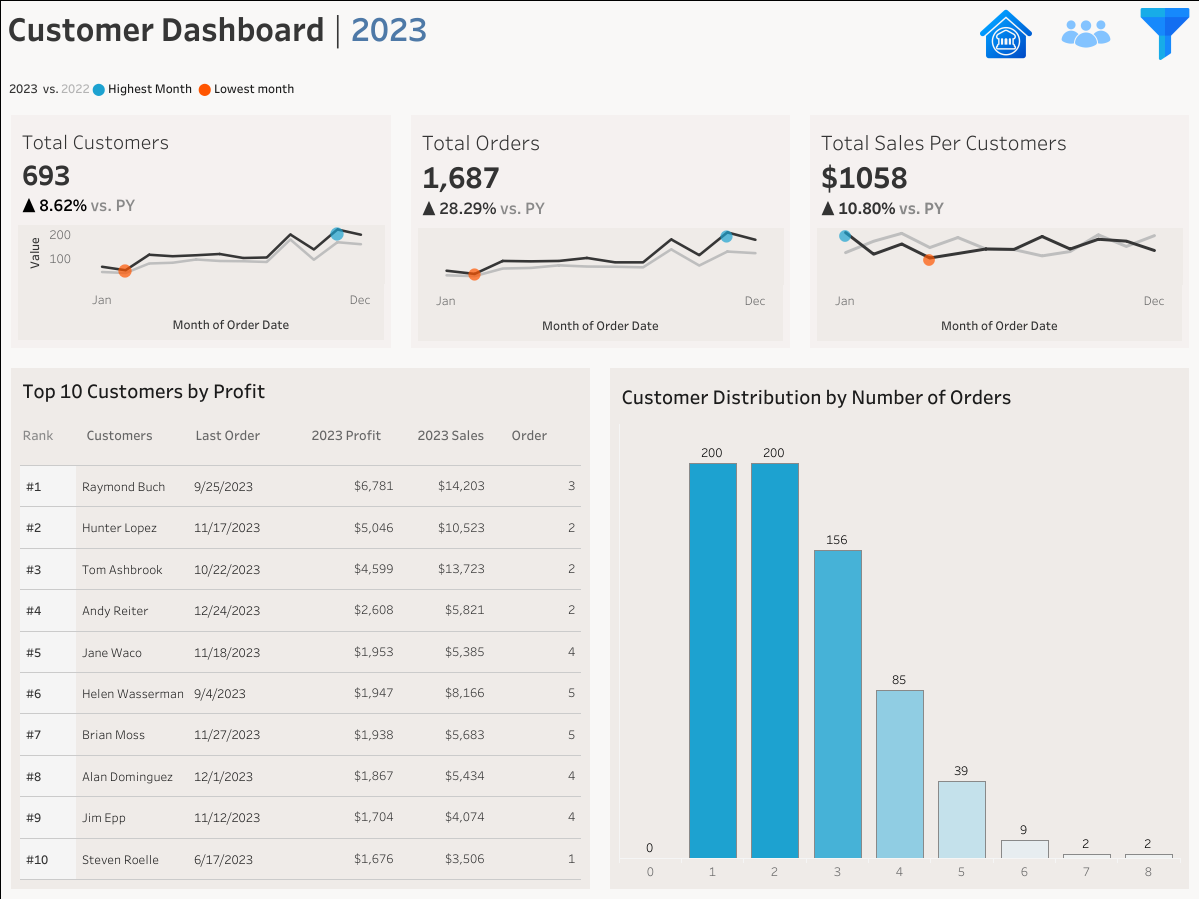

The page's visual inventory and layout, read from the dashboard file:
{"tool":"tableau","page":{"name":"Customer dashboard","canvas":[1200,900],"ordinal":0},"visuals":[{"type":"text","box":[1,1,1198,60]},{"type":"dashboard-object","box":[966,4,80,60]},{"type":"dashboard-object","box":[1046,4,80,60]},{"type":"dashboard-object","box":[1126,4,79,60]},{"type":"blank","box":[8,8,194,36]},{"type":"text","box":[8,44,194,41]},{"type":"worksheet","title":"Legend KPI","mark":"Automatic","box":[1,61,1198,54]},{"type":"parameter","param":"[Parameters].[Parameter 1]","box":[8,85,194,74]},{"type":"worksheet","title":"Cuetomer KPI","mark":"Line","rows":["Min/Max Quantity (copy)_3221481164588691468"],"cols":["Order Date"],"box":[1,115,400,243]},{"type":"worksheet","title":"Order KPI","mark":"Line","rows":["Min/Max Sales (copy)_3221481164601258003"],"cols":["Order Date"],"box":[401,115,399,243]},{"type":"worksheet","title":"Sales Per Customers KPI","mark":"Line","rows":["Min/Max Quantity (copy)_3221481164537155591"],"cols":["Order Date"],"box":[800,115,399,243]},{"type":"blank","box":[8,159,194,39]},{"type":"text","box":[8,198,194,36]},{"type":"filter","title":"Cuetomer KPI","param":"[federated.02ff8am041xuap1esdykf0pzir3w].[none:Category:nk]","box":[8,234,194,70]},{"type":"filter","title":"Cuetomer KPI","param":"[federated.02ff8am041xuap1esdykf0pzir3w].[none:Sub-Category:nk]","box":[8,304,194,70]},{"type":"text","box":[16,373,569,47]},{"type":"text","box":[615,373,569,47]},{"type":"blank","box":[8,374,194,38]},{"type":"text","box":[8,412,194,36]},{"type":"text","box":[16,420,64,53]},{"type":"text","box":[80,420,109,53]},{"type":"text","box":[189,420,116,53]},{"type":"text","box":[305,420,106,53]},{"type":"text","box":[411,420,94,53]},{"type":"text","box":[505,420,80,53]},{"type":"worksheet","title":"Customer Distribution","mark":"Automatic","rows":["Current Year Profit (copy)_1477180721066676224"],"cols":["Calculation_998110323739992064"],"box":[615,420,569,464]},{"type":"filter","title":"Cuetomer KPI","param":"[federated.02ff8am041xuap1esdykf0pzir3w].[none:Region:nk]","box":[8,448,194,70]},{"type":"worksheet","title":"Top Customers","mark":"Automatic","rows":["Calculation_1477180721778905108","Customer Name","Order Date"],"box":[16,473,569,410.9]},{"type":"filter","title":"Cuetomer KPI","param":"[federated.02ff8am041xuap1esdykf0pzir3w].[none:State:nk]","box":[8,518,194,70]},{"type":"filter","title":"Cuetomer KPI","param":"[federated.02ff8am041xuap1esdykf0pzir3w].[none:City:nk]","box":[8,588,194,70]}]}

Visuals, with their boxes in screenshot pixels (x1, y1, x2, y2), scaled from the page's 1200x900 canvas onto the 1199x899 screenshot:
text: bbox=(1, 1, 1198, 61)
dashboard-object: bbox=(965, 4, 1045, 64)
dashboard-object: bbox=(1045, 4, 1125, 64)
dashboard-object: bbox=(1125, 4, 1198, 64)
blank: bbox=(8, 8, 202, 44)
text: bbox=(8, 44, 202, 85)
"Legend KPI" worksheet: bbox=(1, 61, 1198, 115)
parameter: bbox=(8, 85, 202, 159)
"Cuetomer KPI" worksheet (Line marks): bbox=(1, 115, 401, 358)
"Order KPI" worksheet (Line marks): bbox=(401, 115, 799, 358)
"Sales Per Customers KPI" worksheet (Line marks): bbox=(799, 115, 1198, 358)
blank: bbox=(8, 159, 202, 198)
text: bbox=(8, 198, 202, 234)
"Cuetomer KPI" filter: bbox=(8, 234, 202, 304)
"Cuetomer KPI" filter: bbox=(8, 304, 202, 374)
text: bbox=(16, 373, 585, 420)
text: bbox=(614, 373, 1183, 420)
blank: bbox=(8, 374, 202, 412)
text: bbox=(8, 412, 202, 448)
text: bbox=(16, 420, 80, 472)
text: bbox=(80, 420, 189, 472)
text: bbox=(189, 420, 305, 472)
text: bbox=(305, 420, 411, 472)
text: bbox=(411, 420, 505, 472)
text: bbox=(505, 420, 585, 472)
"Customer Distribution" worksheet: bbox=(614, 420, 1183, 883)
"Cuetomer KPI" filter: bbox=(8, 448, 202, 517)
"Top Customers" worksheet: bbox=(16, 472, 585, 883)
"Cuetomer KPI" filter: bbox=(8, 517, 202, 587)
"Cuetomer KPI" filter: bbox=(8, 587, 202, 657)
